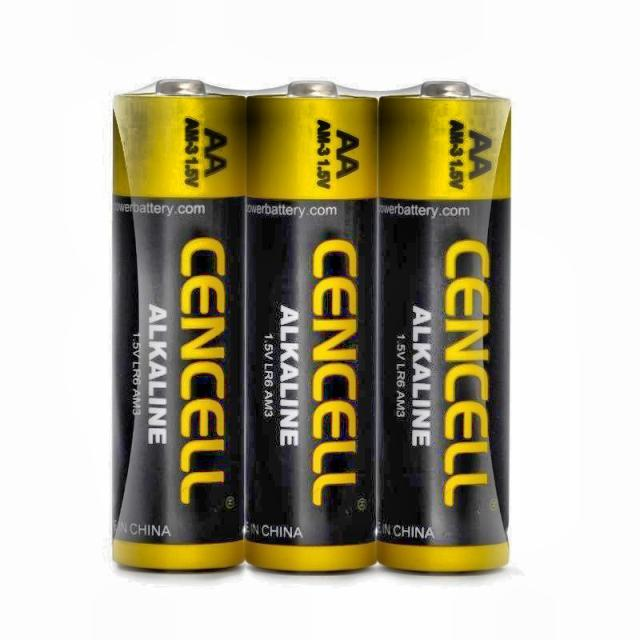Non-Valuable Waste - Batteries: (112, 80, 246, 569), (246, 81, 378, 571), (378, 81, 510, 571)
